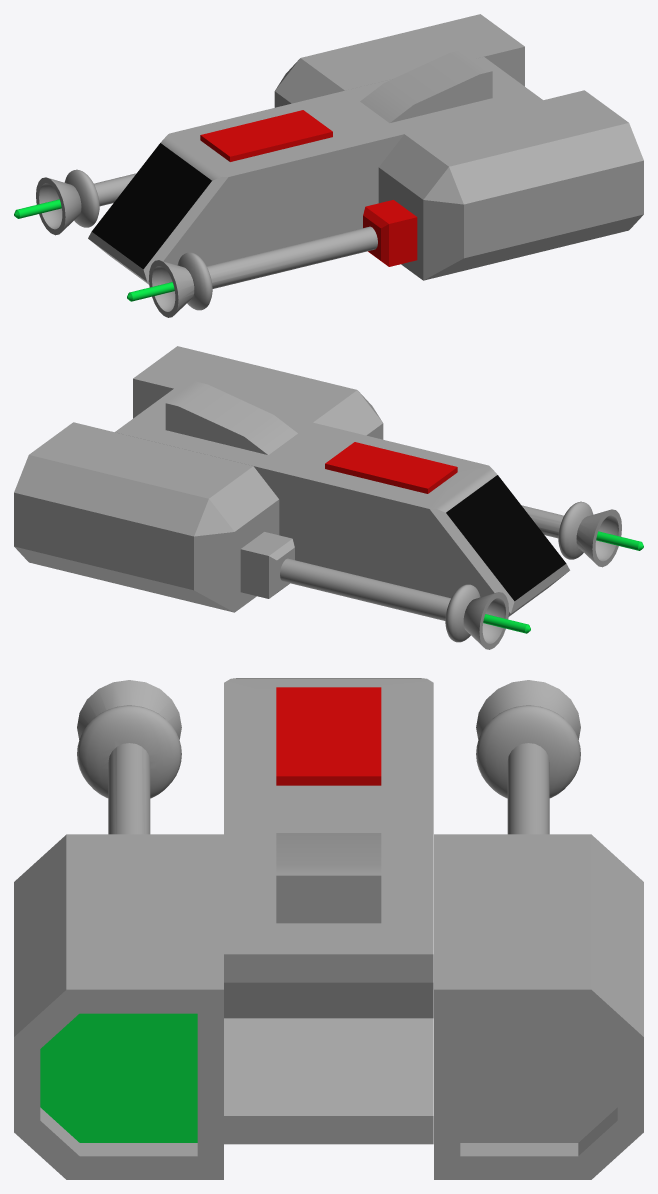
File: spaceship_Jacob_Szymura.fbx
The picture shows the model from 3 angles, top to bottom: view 1: azimuth 30°, elevation 25°; view 2: azimuth 150°, elevation 25°; view 3: azimuth 270°, elevation 25°; orthographic projection. The views are drawn at different scales.
Visible parts, largest first — view 1: pCone3; view 2: pCone3; view 3: pCone3.
Part boxes in pixels (x1=…): pCone3: x1=14, y1=14, x2=643, y2=317; pCone3: x1=14, y1=346, x2=643, y2=649; pCone3: x1=14, y1=678, x2=643, y2=1179.
Size of the model in its own units: 9.4 by 2.5 by 6.
